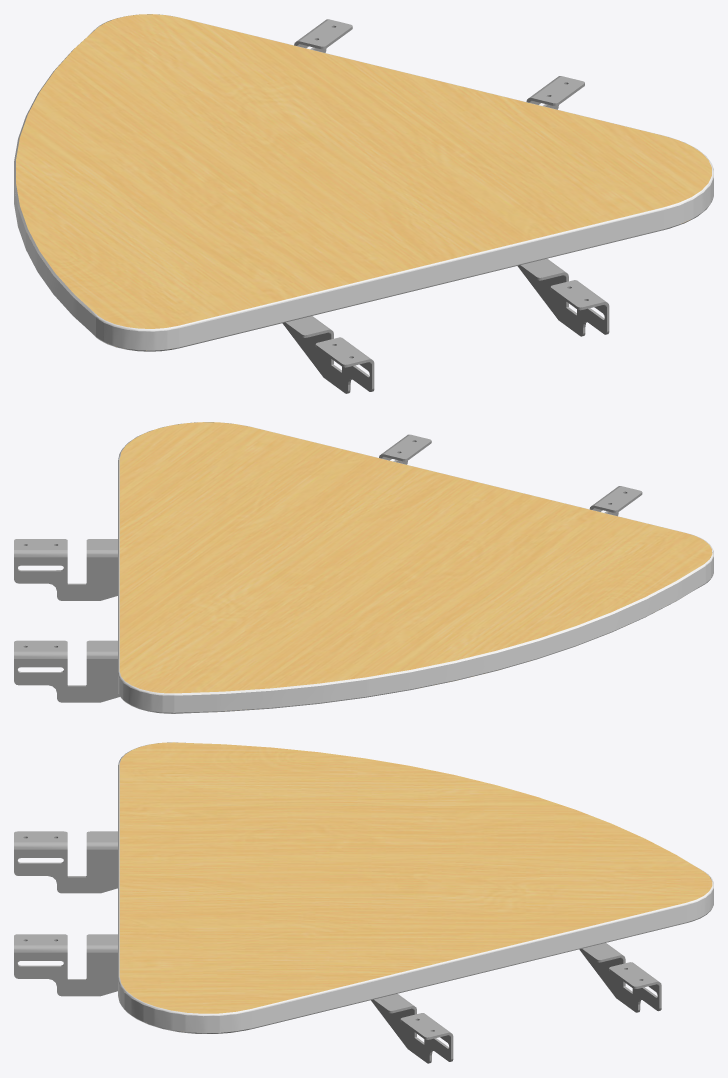
File: HSU060000.glb
3 views of the same model, one above another, from view 1: azimuth 30°, elevation 25°; view 2: azimuth 150°, elevation 25°; view 3: azimuth 270°, elevation 25° (orthographic). The views are drawn at different scales.
Visible parts, largest first — view 1: 4 (×2), 16, 15, 13, 14; view 2: 4 (×2), 13, 14, 16, 15; view 3: 4 (×2), 15, 16, 13, 14.
Boxes of the visible parts, x1,y1,x2,y2 form: 4 (×2): [14, 14, 713, 351]; 16: [517, 258, 609, 336]; 15: [282, 316, 374, 393]; 13: [294, 19, 352, 52]; 14: [526, 76, 584, 109]; 4 (×2): [118, 422, 713, 713]; 13: [14, 640, 119, 702]; 14: [14, 539, 117, 600]; 16: [379, 434, 431, 464]; 15: [589, 486, 642, 516]; 4 (×2): [118, 742, 713, 1033]; 15: [14, 831, 117, 893]; 16: [14, 934, 117, 996]; 13: [579, 943, 661, 1012]; 14: [371, 993, 453, 1063].
Bounding box in the file's own units: 0.7277 × 0.085 × 0.7812.
Materials: 3 (1 with a texture image).
